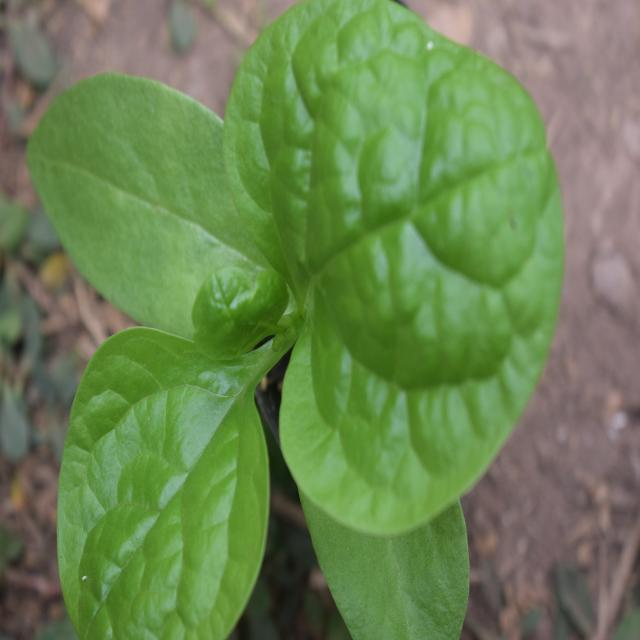Ceylon spinach: (40, 6, 568, 586)
